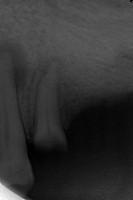Furcation Involvement: (0, 40, 27, 94)
